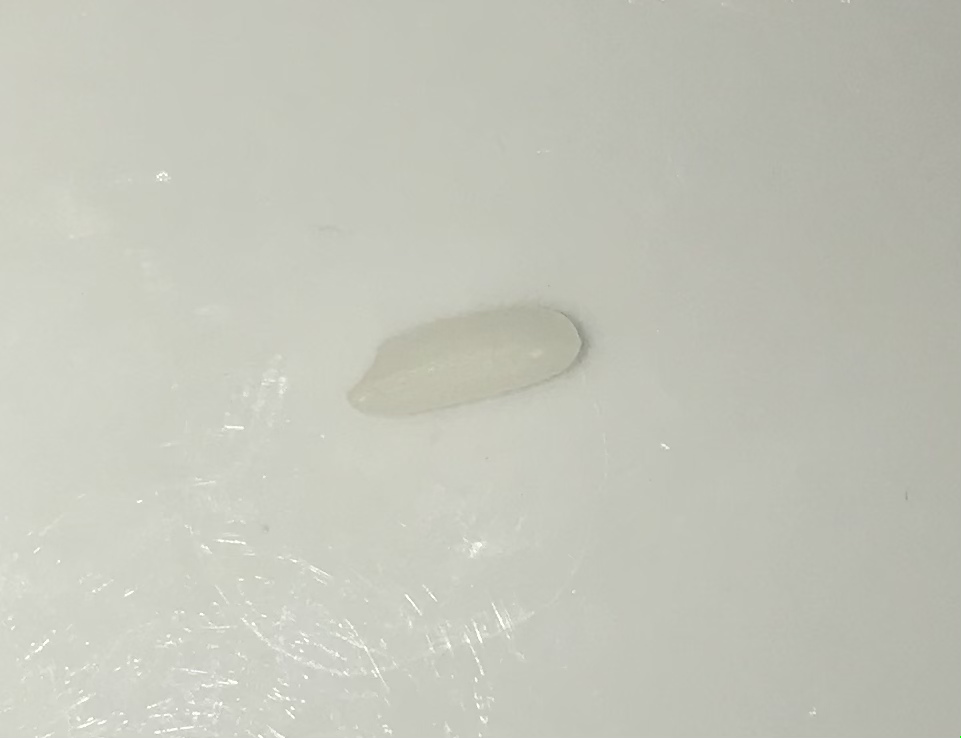Gao Thom Go Cong: (346, 270, 603, 427)
